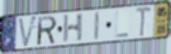H: (62, 12, 85, 45)
I: (93, 10, 102, 42)
L: (114, 10, 129, 39)
R: (37, 15, 58, 47)
T: (135, 6, 153, 39)
V: (17, 15, 38, 50)
